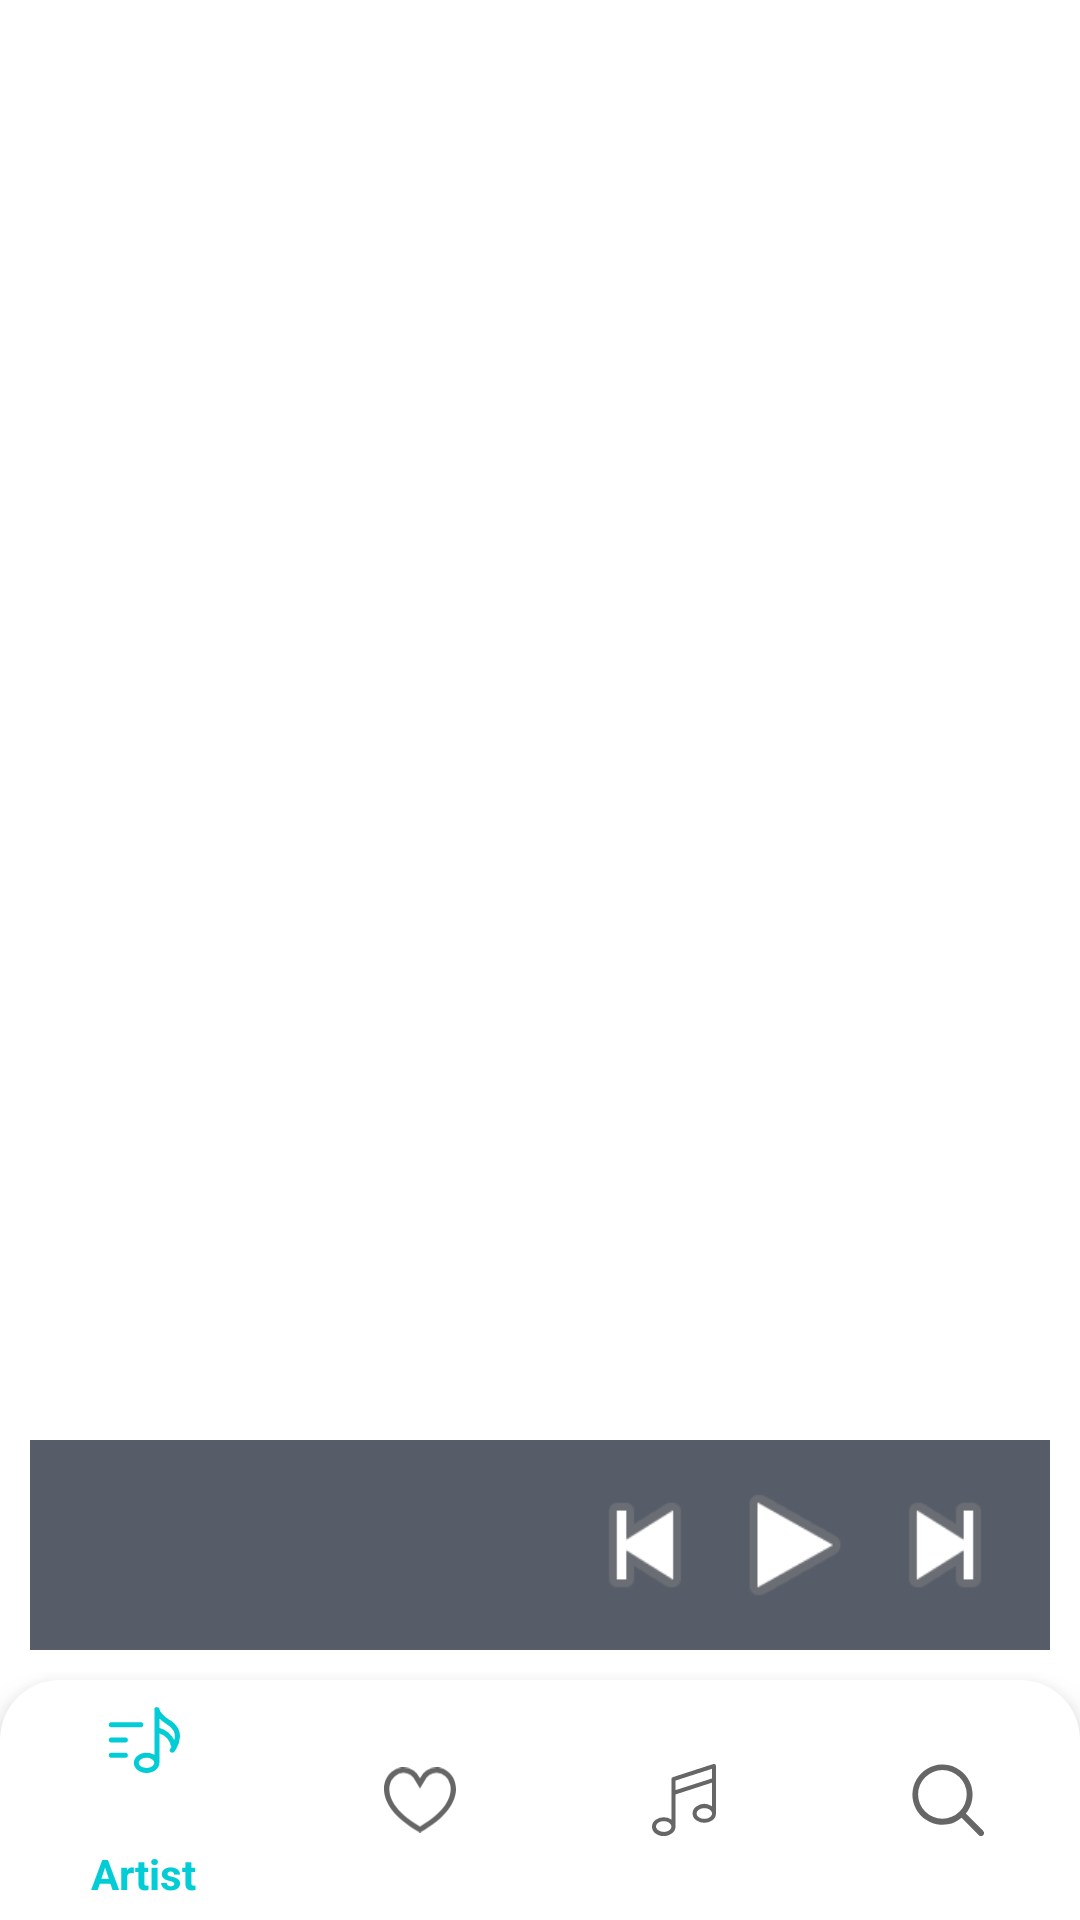

Where to tap for icons on this 1080 × 1920 app screen, as (x,y):
next: (945,1545)
play: (795,1545)
previous: (645,1545)
